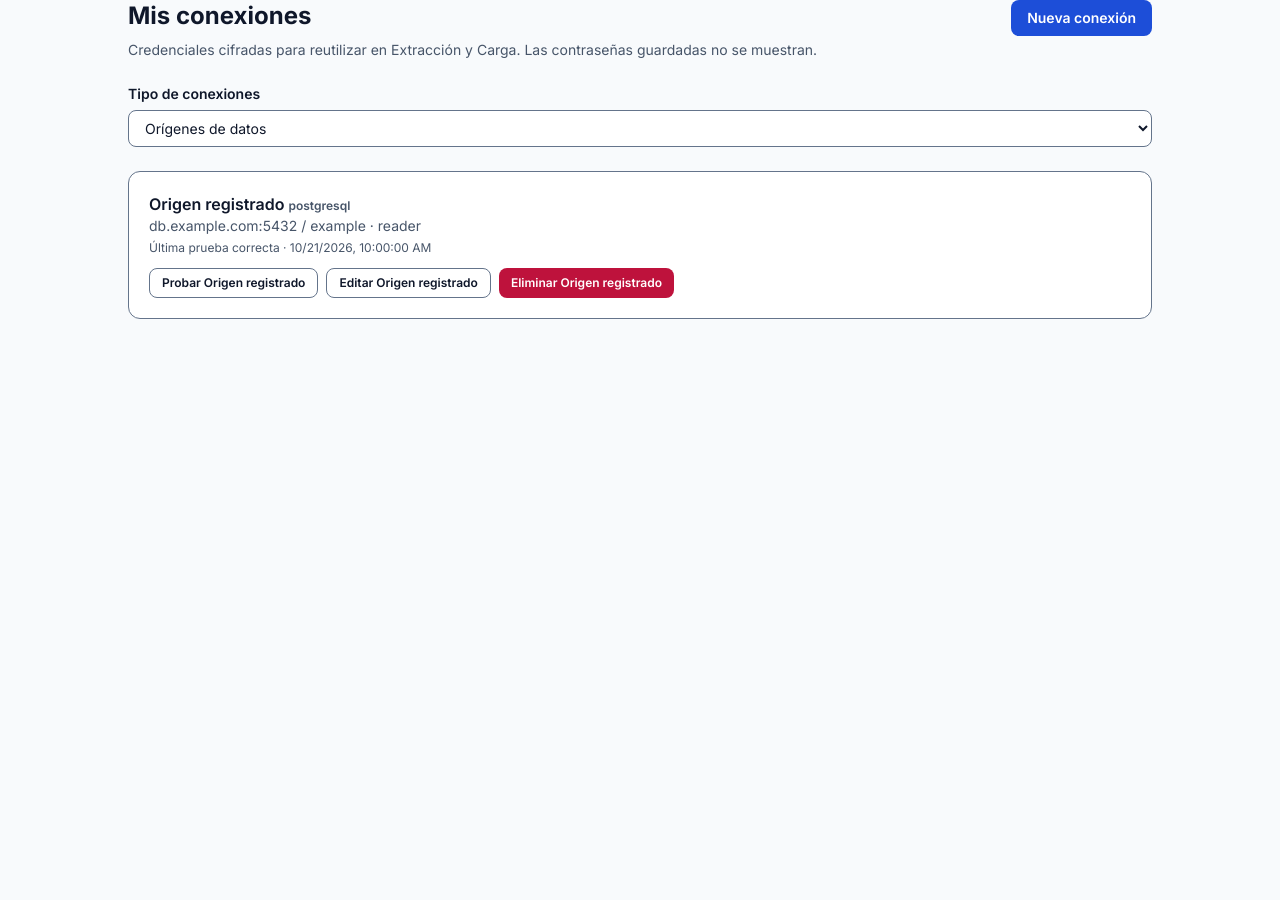
Test: saved connections and account boundaries › reports a successful test and a refused deletion without losing the saved row
Click the button "Probar Origen registrado": point(234, 283) [149,268,318,298]
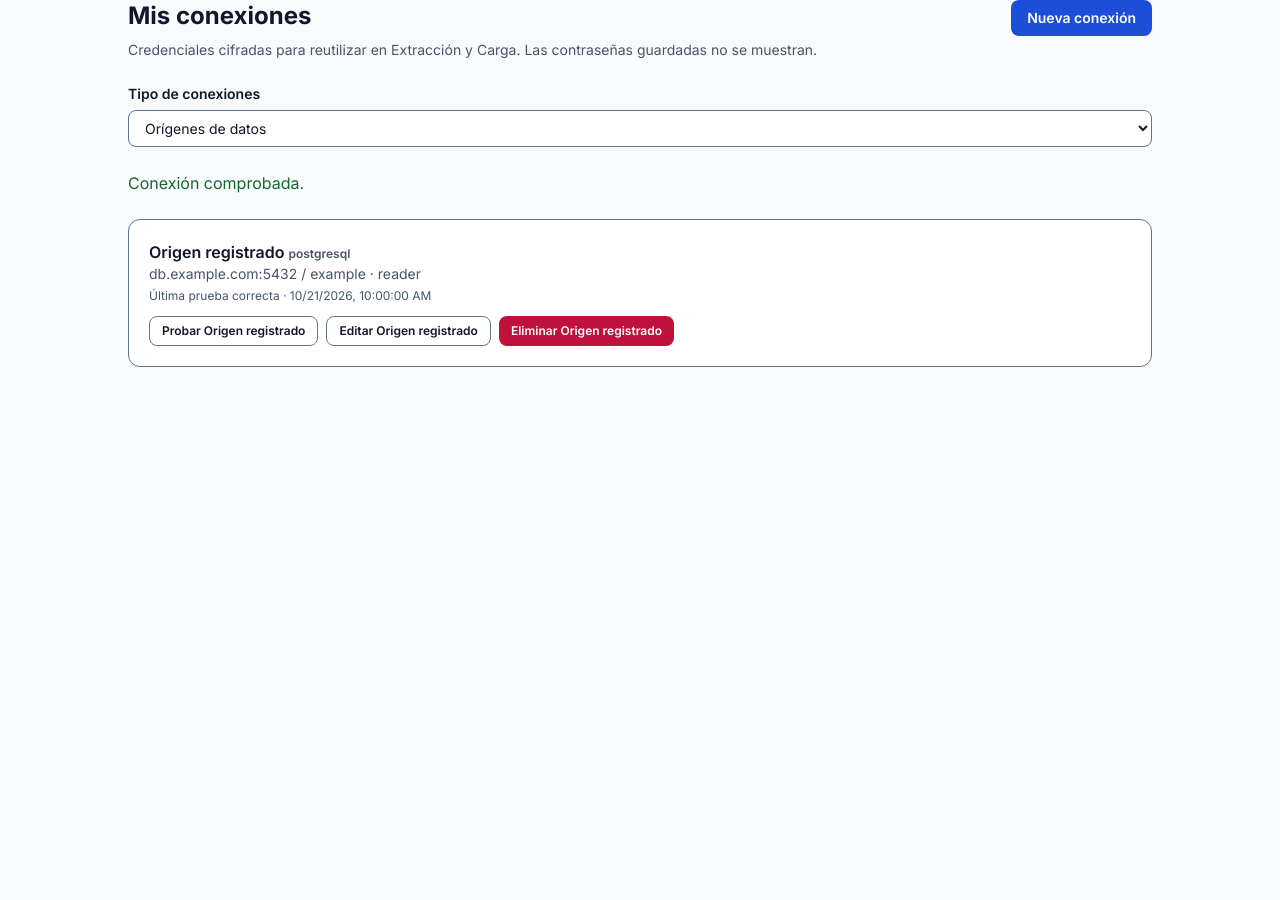
Expected: the text "Conexión comprobada." is shown, [128,173,304,193]
Click the button "Eliminar Origen registrado": point(586, 331) [499,316,674,346]
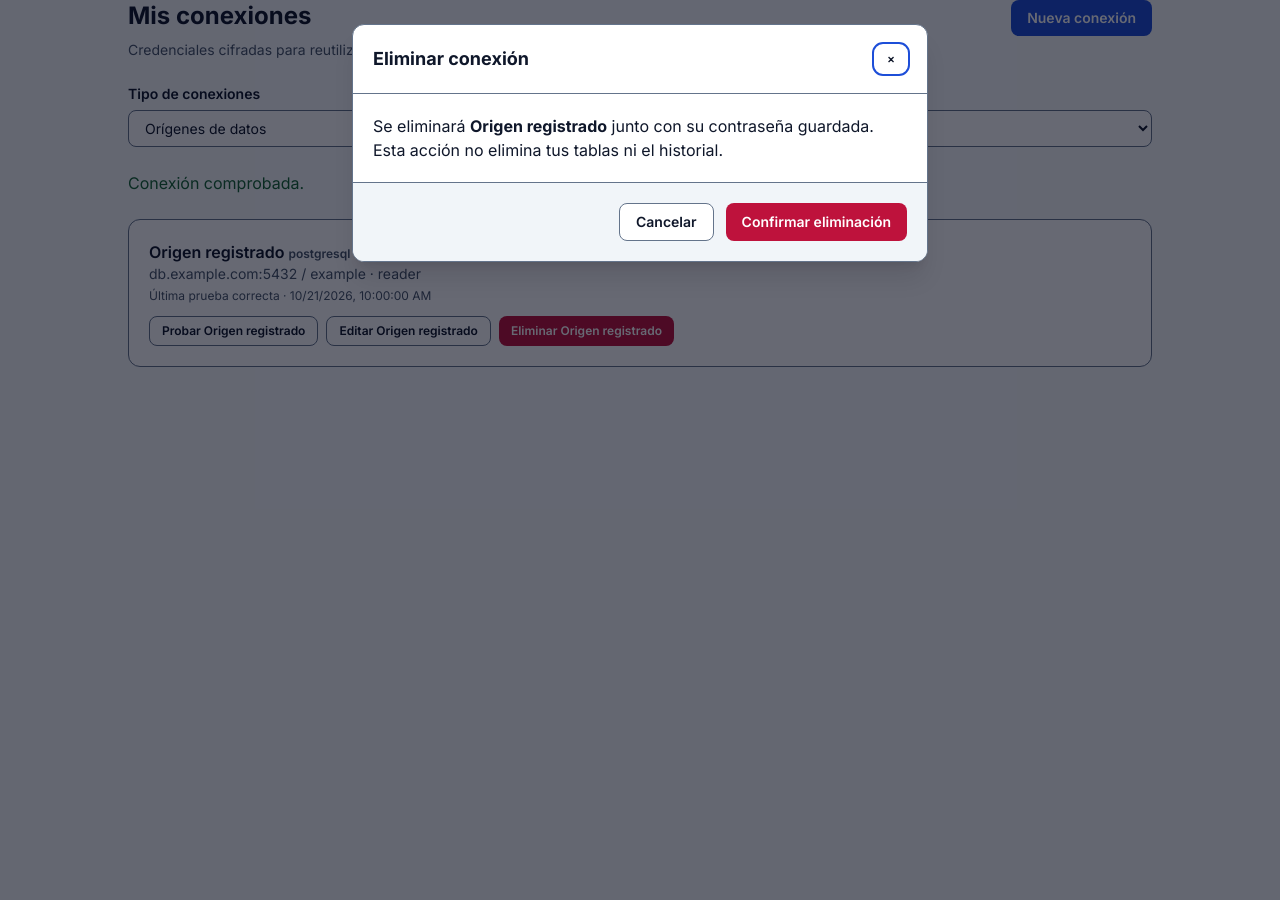
Click the button "Confirmar eliminación": point(816, 222) [726,203,907,241]
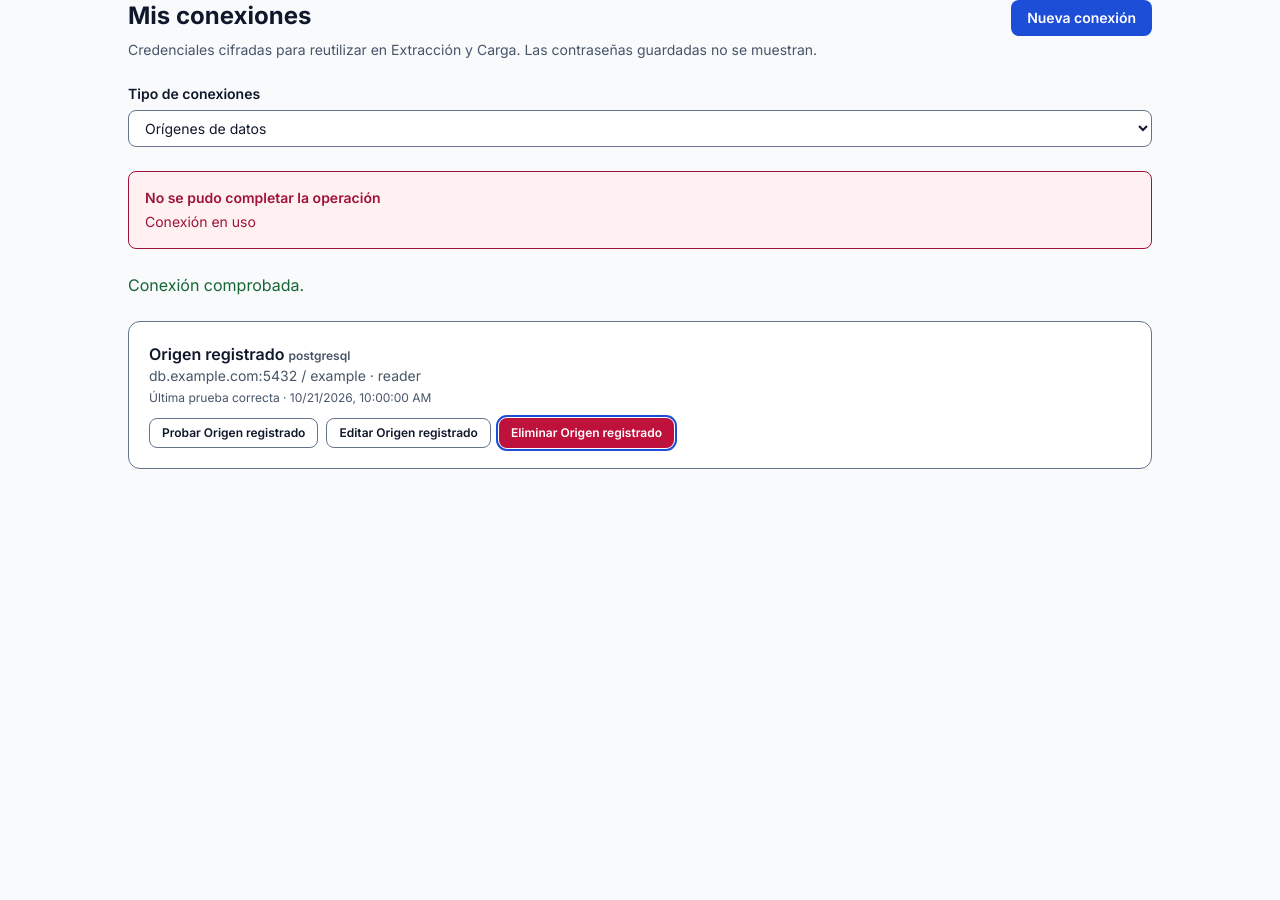
Expected: the button "Editar Origen registrado" is enabled, [326,418,491,448]
Expected: the text "Conexión en uso" is shown, [145,213,256,230]
